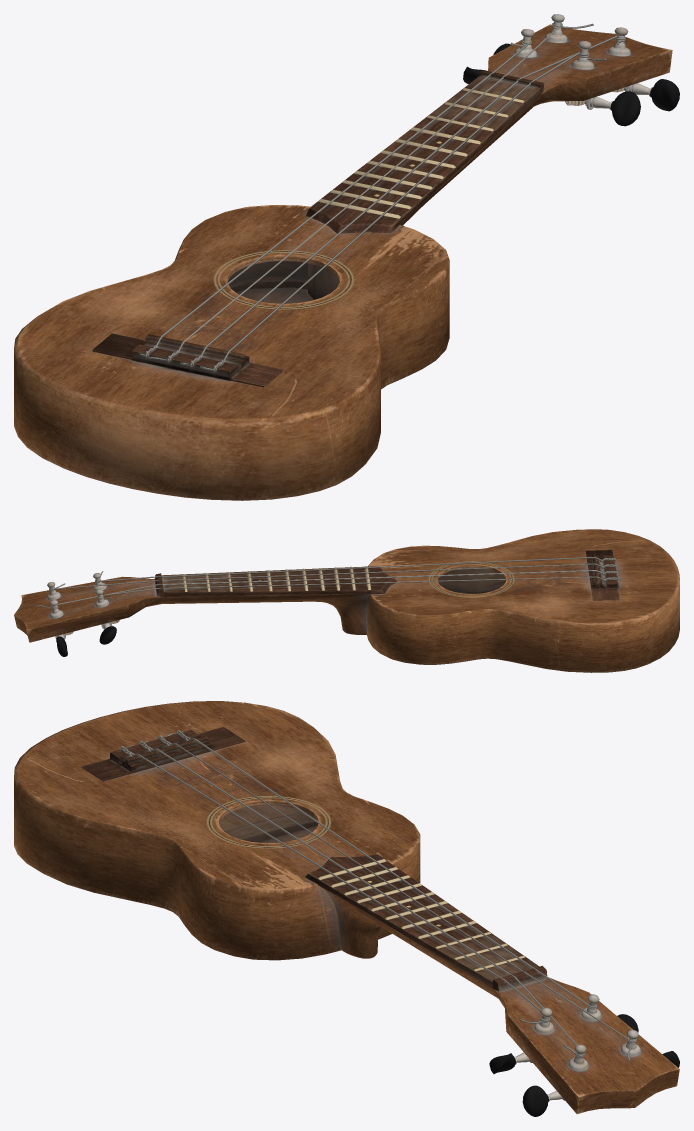
File: guitar.glb
The picture shows the model from 3 angles, top to bottom: view 1: azimuth 30°, elevation 25°; view 2: azimuth 150°, elevation 25°; view 3: azimuth 270°, elevation 25°; orthographic projection. The views are drawn at different scales.
Visible parts, largest first — view 1: Ukulele_01.003; view 2: Ukulele_01.003; view 3: Ukulele_01.003.
Boxes of the visible parts, x1,y1,x2,y2 form: Ukulele_01.003: (14, 14, 679, 500); Ukulele_01.003: (14, 529, 679, 672); Ukulele_01.003: (14, 701, 679, 1116).
Bounding box in the file's own units: 0.6226 × 0.0671 × 0.4782.
Materials: 1 (1 with a texture image).
